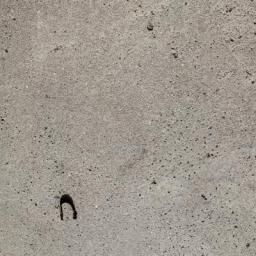FOD: (59, 189, 81, 223)
